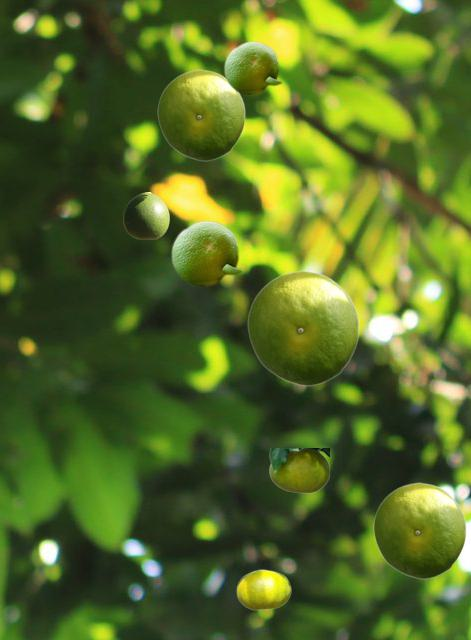dalandan: (247, 270, 358, 385), (373, 482, 465, 578), (157, 69, 244, 160), (170, 219, 243, 286), (223, 40, 282, 94), (269, 448, 328, 492), (236, 569, 290, 609), (123, 192, 168, 238)
